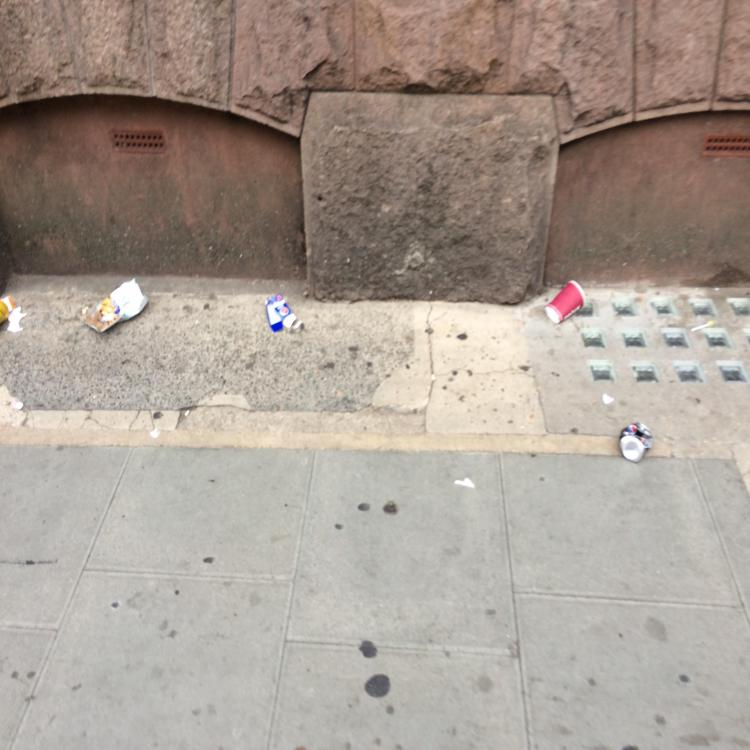Drink can: (620, 422, 652, 462)
Paper cup: (545, 280, 585, 323)
Unlabeled litter: (266, 294, 296, 332), (7, 306, 27, 332), (1, 295, 16, 325)
